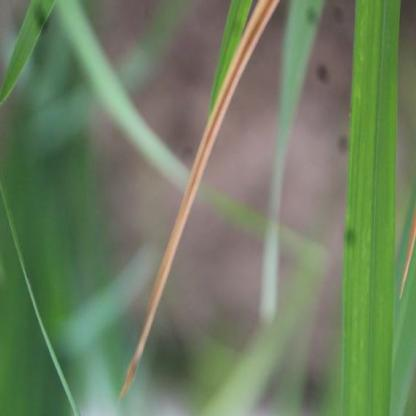Tungro: (127, 1, 281, 390)
